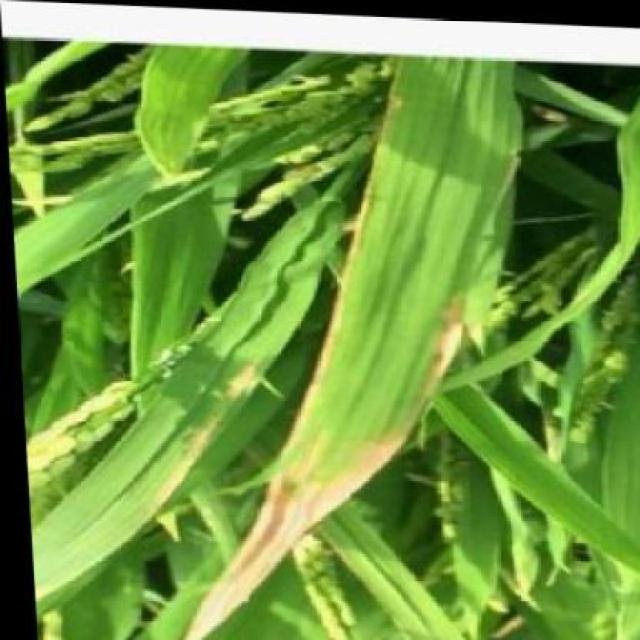Brown_Spot: (325, 177, 469, 506)
